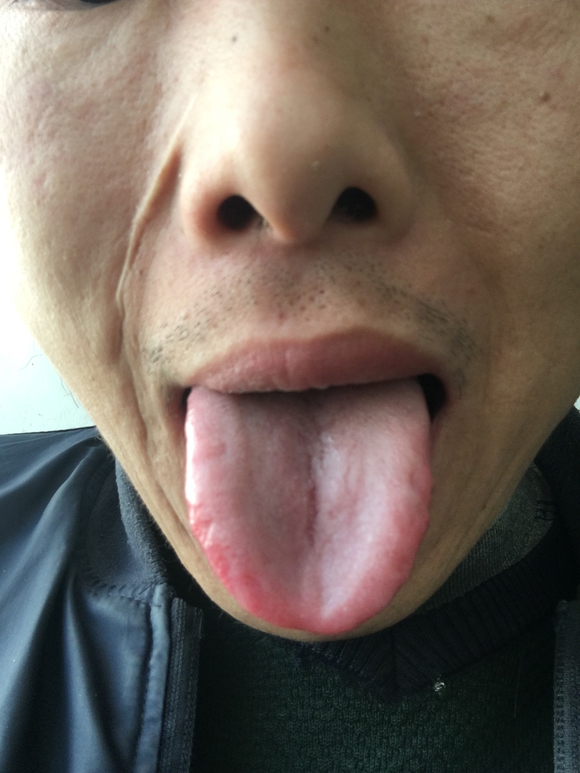baitaishe: (181, 388, 431, 636)
hongshe: (182, 388, 432, 636)
liewenshe: (298, 427, 325, 551)
